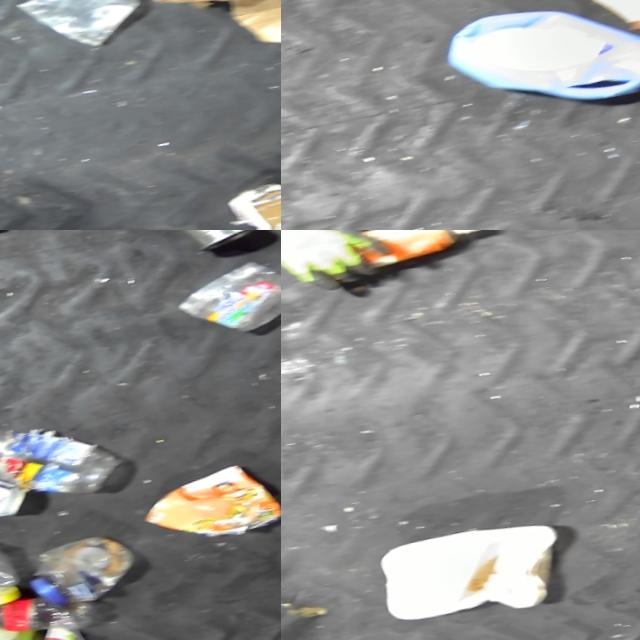can: (146, 230, 262, 257), (0, 460, 29, 520)
milk_jug: (356, 494, 592, 640)
non_white_jug: (428, 0, 640, 142)
plastic_bottle: (0, 378, 126, 529), (0, 572, 96, 640)
